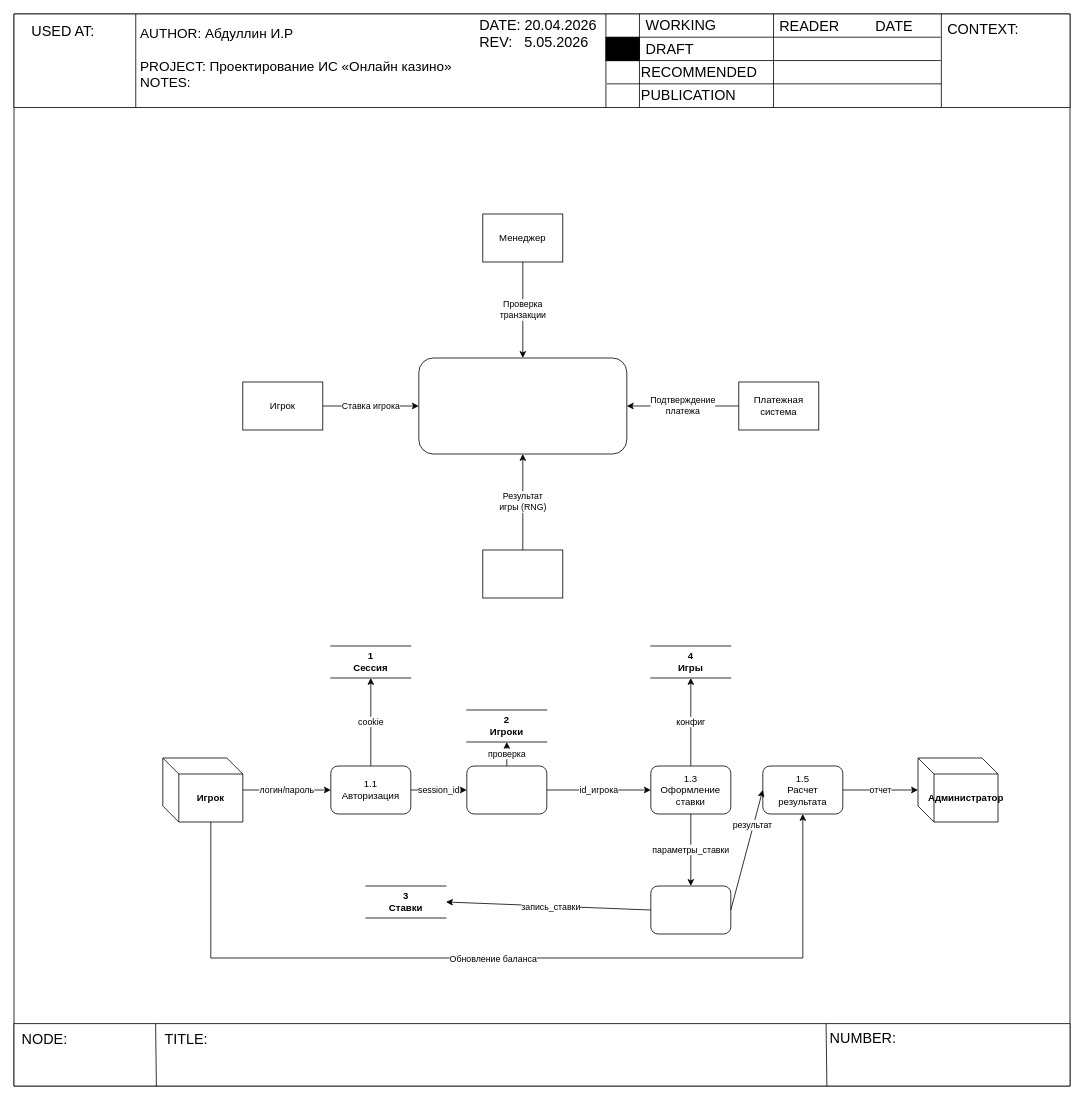
Image size: 1084x1101. Some labels were removed from this diagram. The box of each missing label's shape, as (x1, y1, x2, y2) in pixels:
1.2 Верификация: (466, 765, 547, 814)
1.4 Фиксация ставки: (650, 885, 731, 934)
RNG (Генератор): (482, 549, 563, 598)
Игровой процесс и обработка ставок: (418, 357, 627, 454)
Процесс игры и расчета выигрыша в системе казино: (13, 1023, 1070, 1086)
